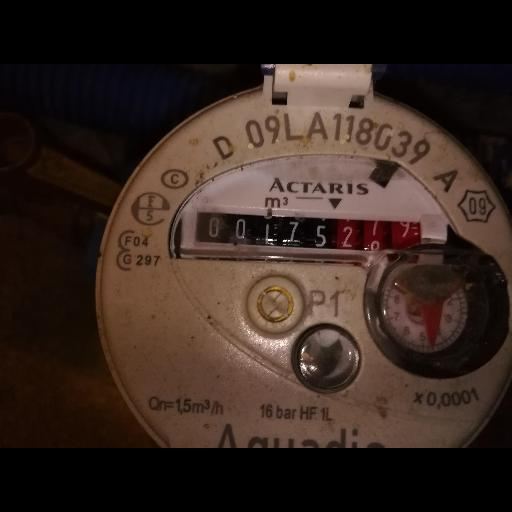0: (204, 213, 227, 244), (230, 214, 252, 245)
1: (257, 216, 279, 247)
2: (336, 219, 360, 251)
5: (311, 218, 334, 251)
7: (282, 217, 305, 248), (364, 221, 387, 252)
9: (392, 221, 421, 250)
border_water_meter_number: (192, 191, 429, 265)
